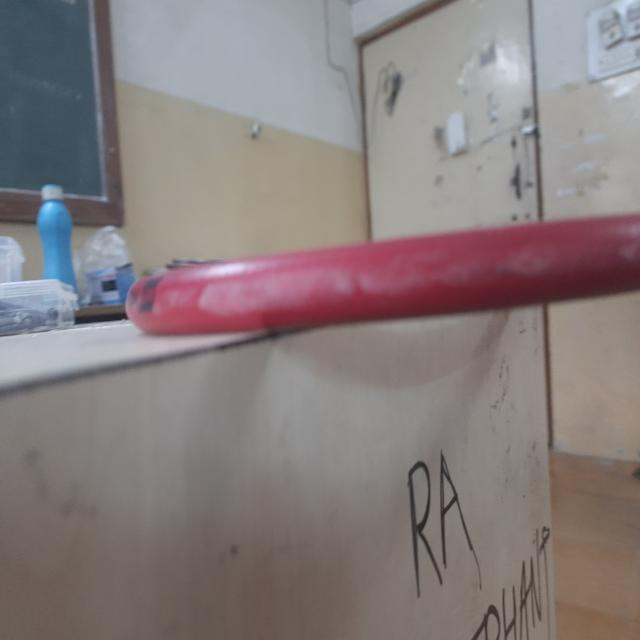daire: (138, 223, 640, 324)
